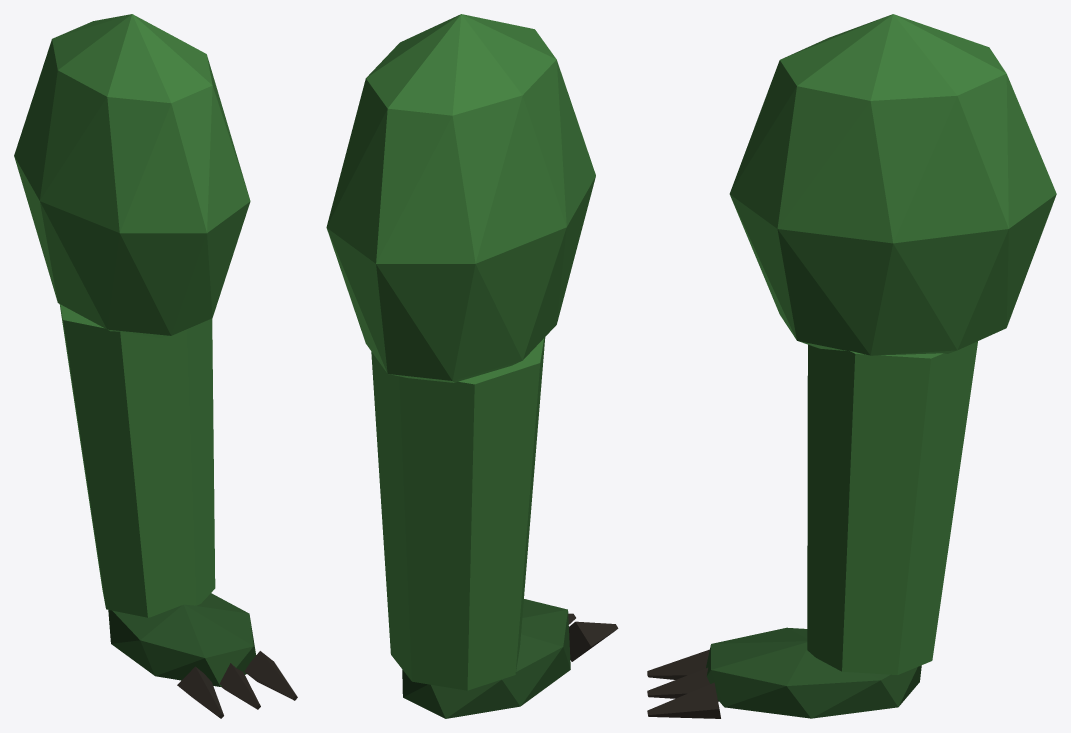
File: dragon_0_leg_bl.glb
3 views of the same model, side by side, from view 1: azimuth 30°, elevation 25°; view 2: azimuth 150°, elevation 25°; view 3: azimuth 270°, elevation 25° (orthographic). The views are drawn at different scales.
Parts seen in each view (by area): view 1: dragon_0_leg_bl; view 2: dragon_0_leg_bl; view 3: dragon_0_leg_bl.
Boxes of the visible parts, x1,y1,x2,y2 form: dragon_0_leg_bl: (14, 14, 297, 718); dragon_0_leg_bl: (326, 14, 618, 718); dragon_0_leg_bl: (647, 14, 1056, 718).
Size of the model in its own units: 0.4 by 1.29 by 0.701.
